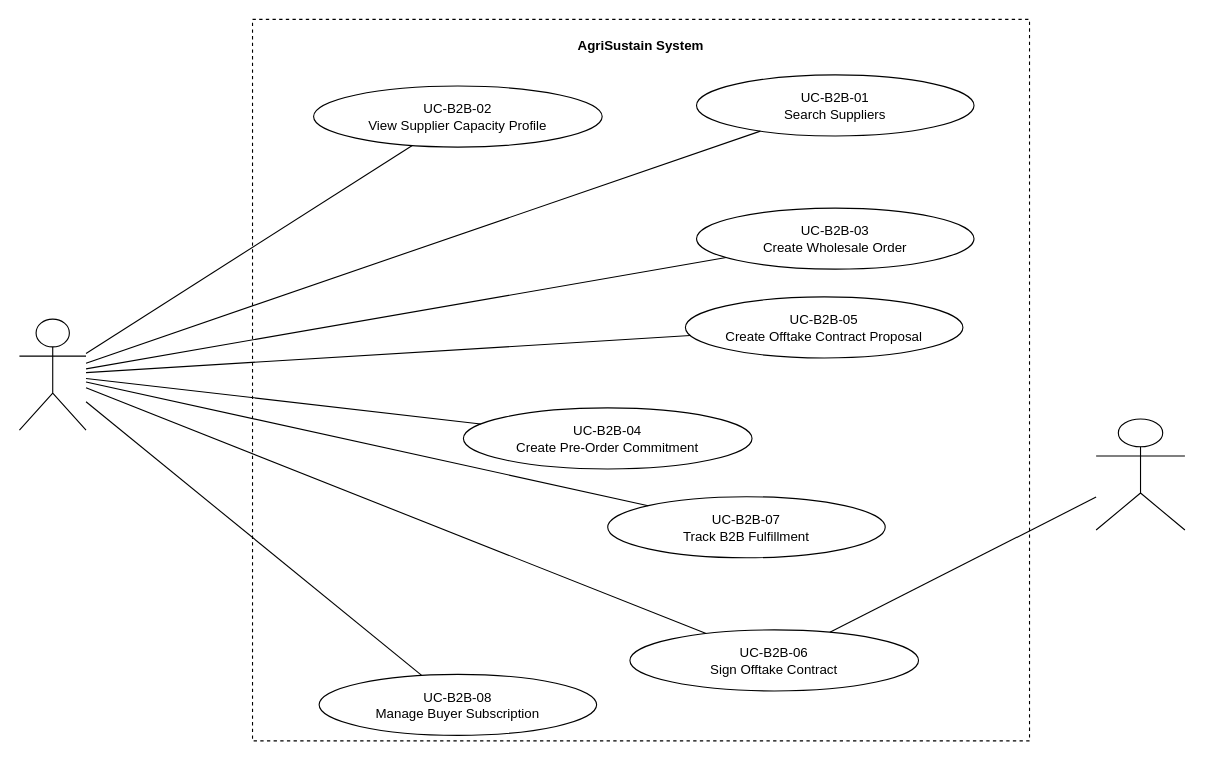
Image size: 1222x760. Some labels were removed from this diagram. Here are the shapes that lost their labels. From the top down, the box of each, then its label:
(18, 318, 86, 430): Buyer B2B
(1095, 418, 1185, 530): Farmer / Cooperative
